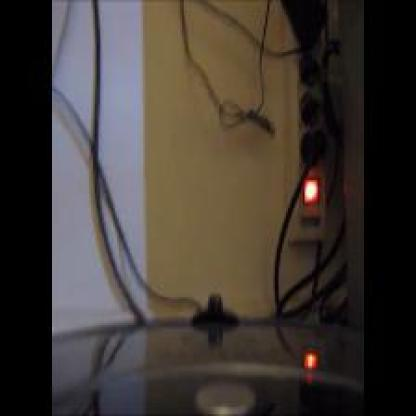other: (298, 174, 330, 216), (295, 343, 321, 371)
